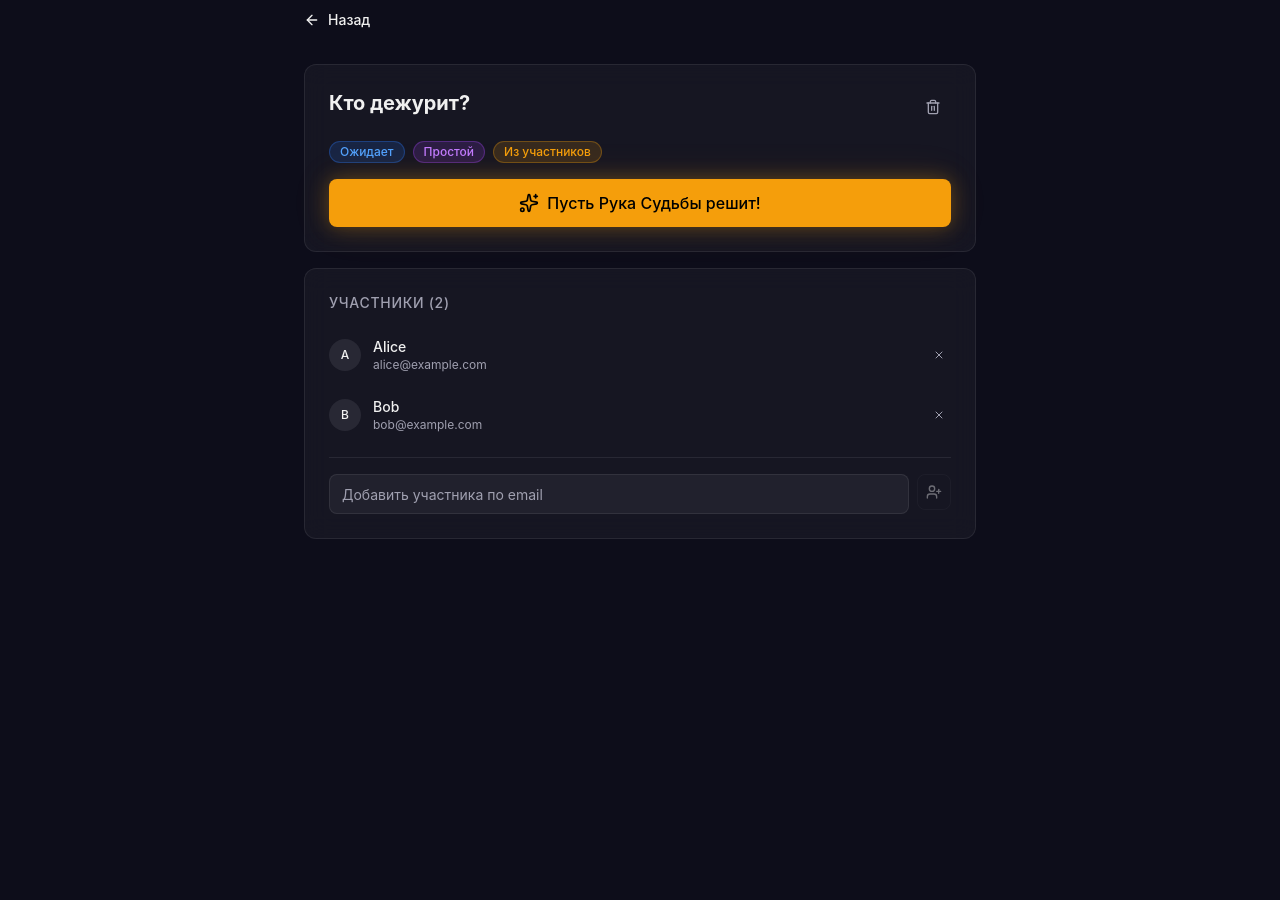
Test: VoteDetailPage › keeps the vote when the deletion is cancelled
Click the button named "Удалить голосование".
click(933, 107)  # box x1=915 y1=89 x2=951 y2=125
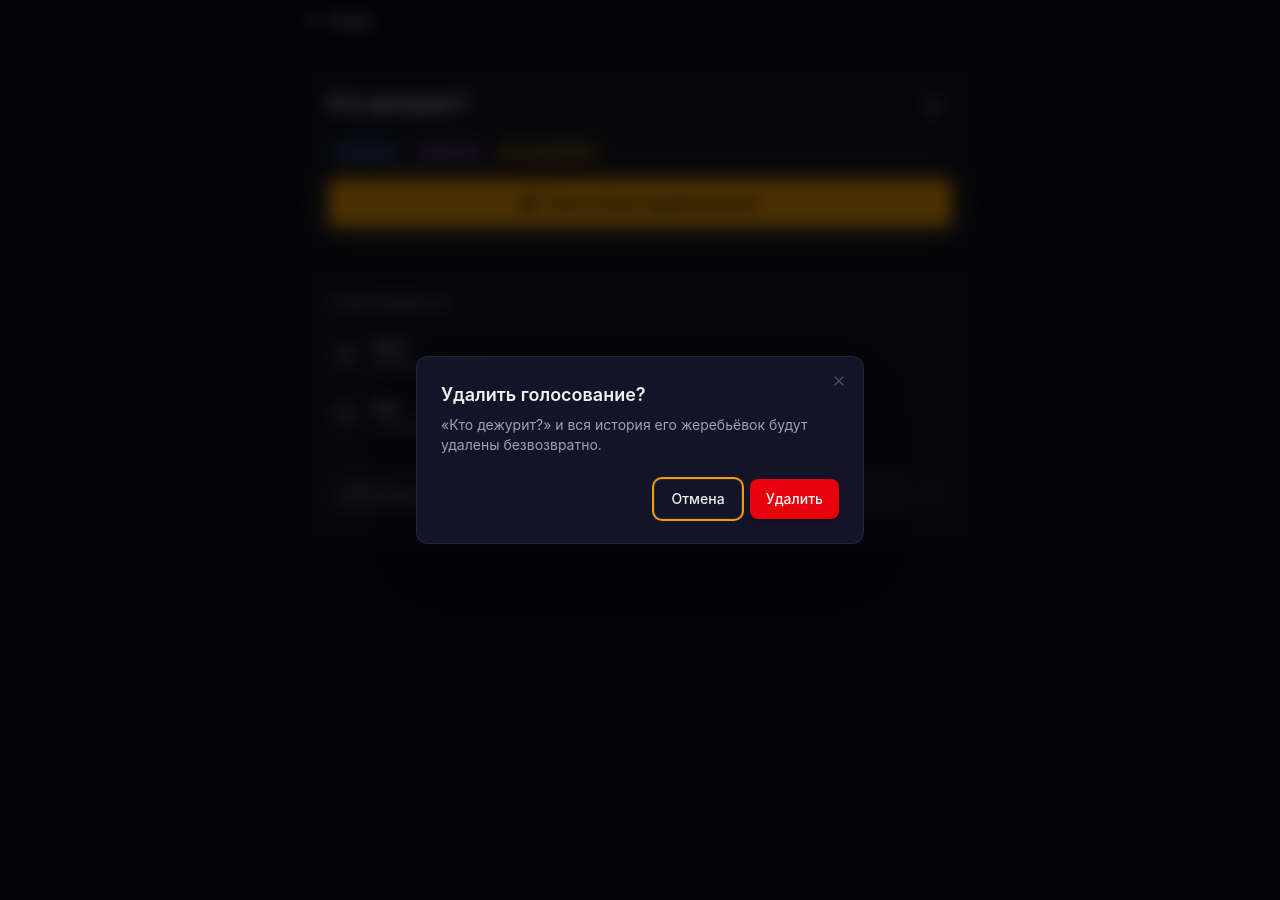
Click the button "Отмена".
click(698, 499)  # box x1=654 y1=479 x2=742 y2=519
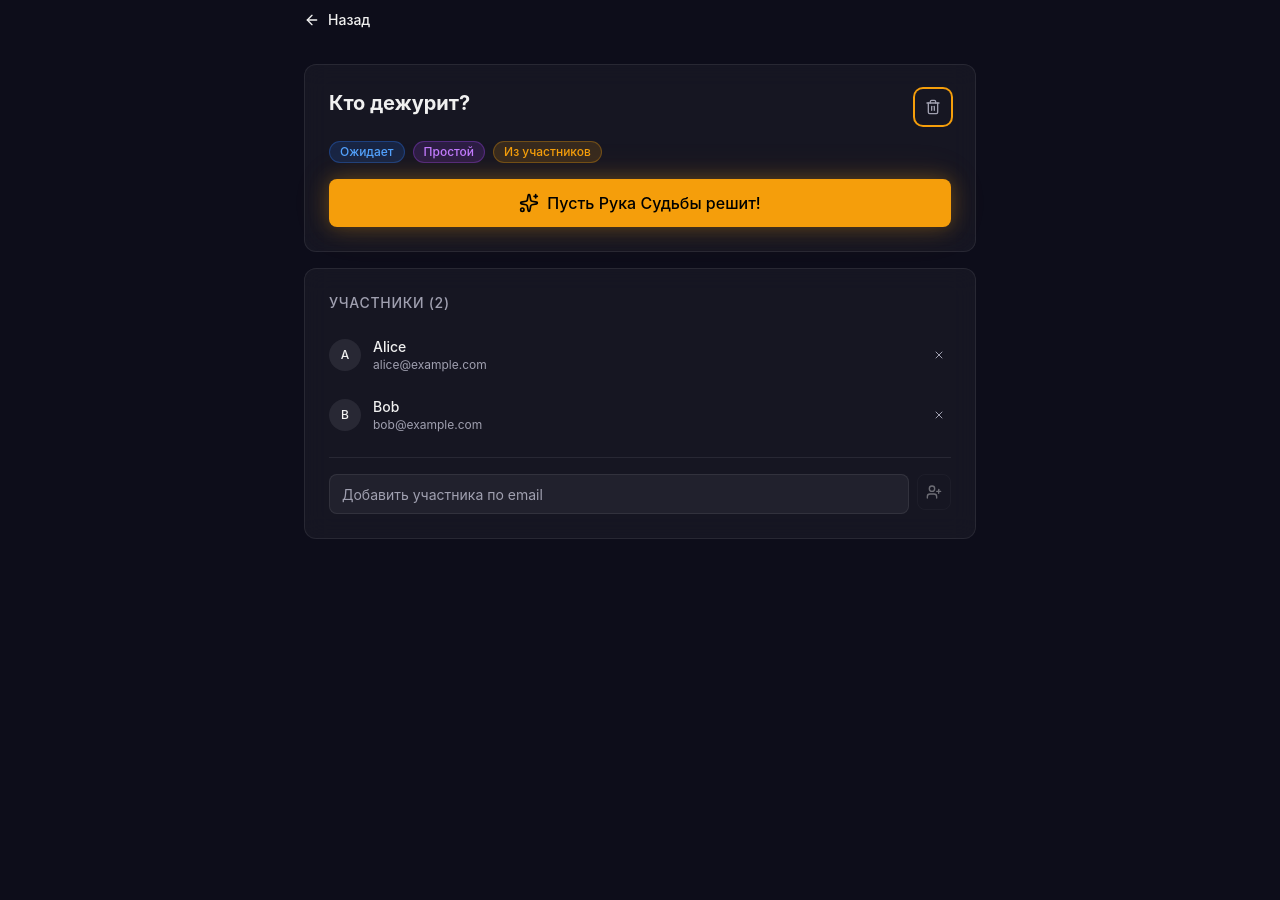
Expected: the heading "Кто дежурит?" is shown, x1=329 y1=89 x2=470 y2=117
Now the dialog is gone
